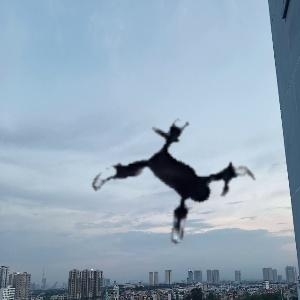drone: (83, 100, 267, 284)
